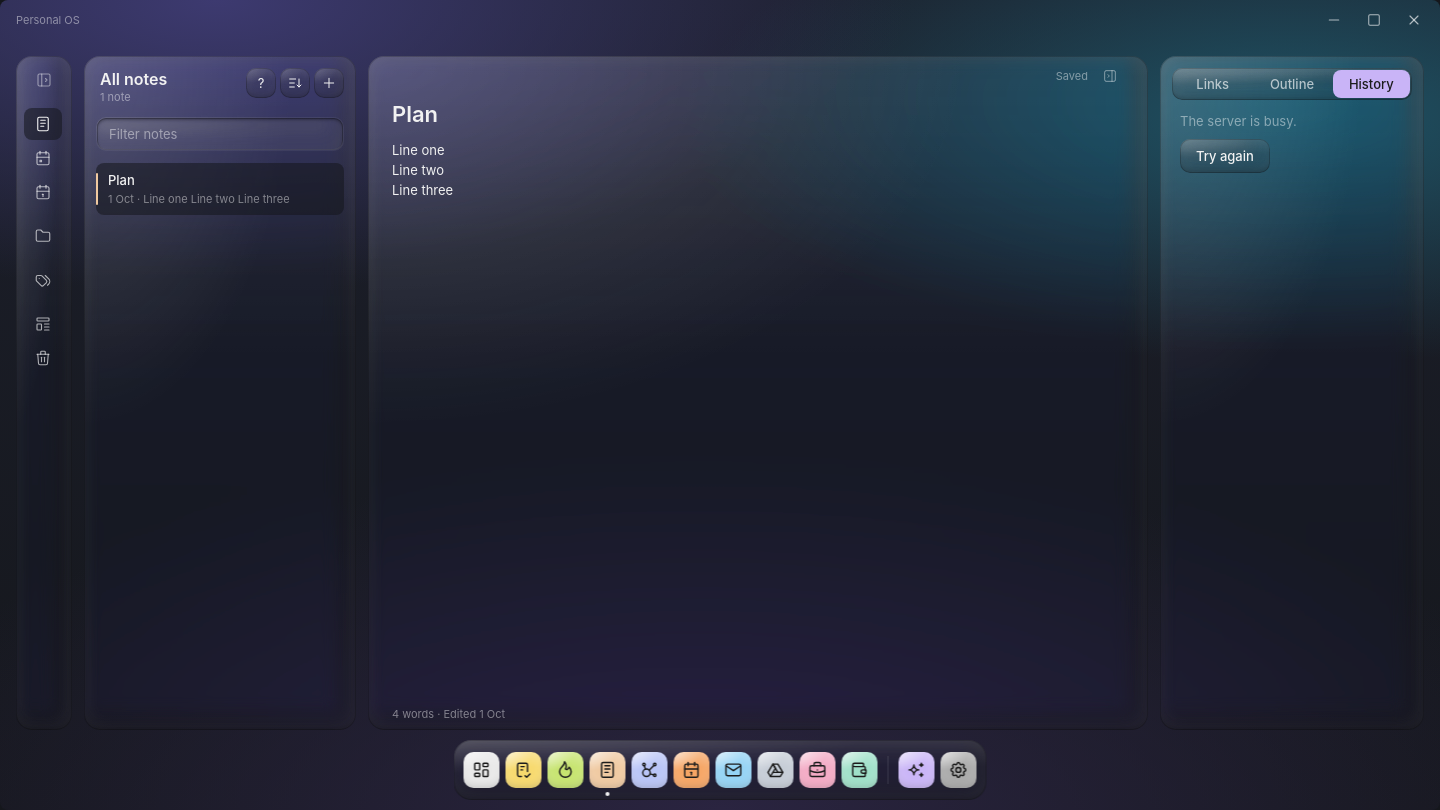
Test: the History tab › shows the server message and tries again
expect the text "The server is busy." is shown: met, box [1180, 112, 1297, 131]
Click the button "Try again" at (1225, 156), box [1180, 139, 1270, 173]
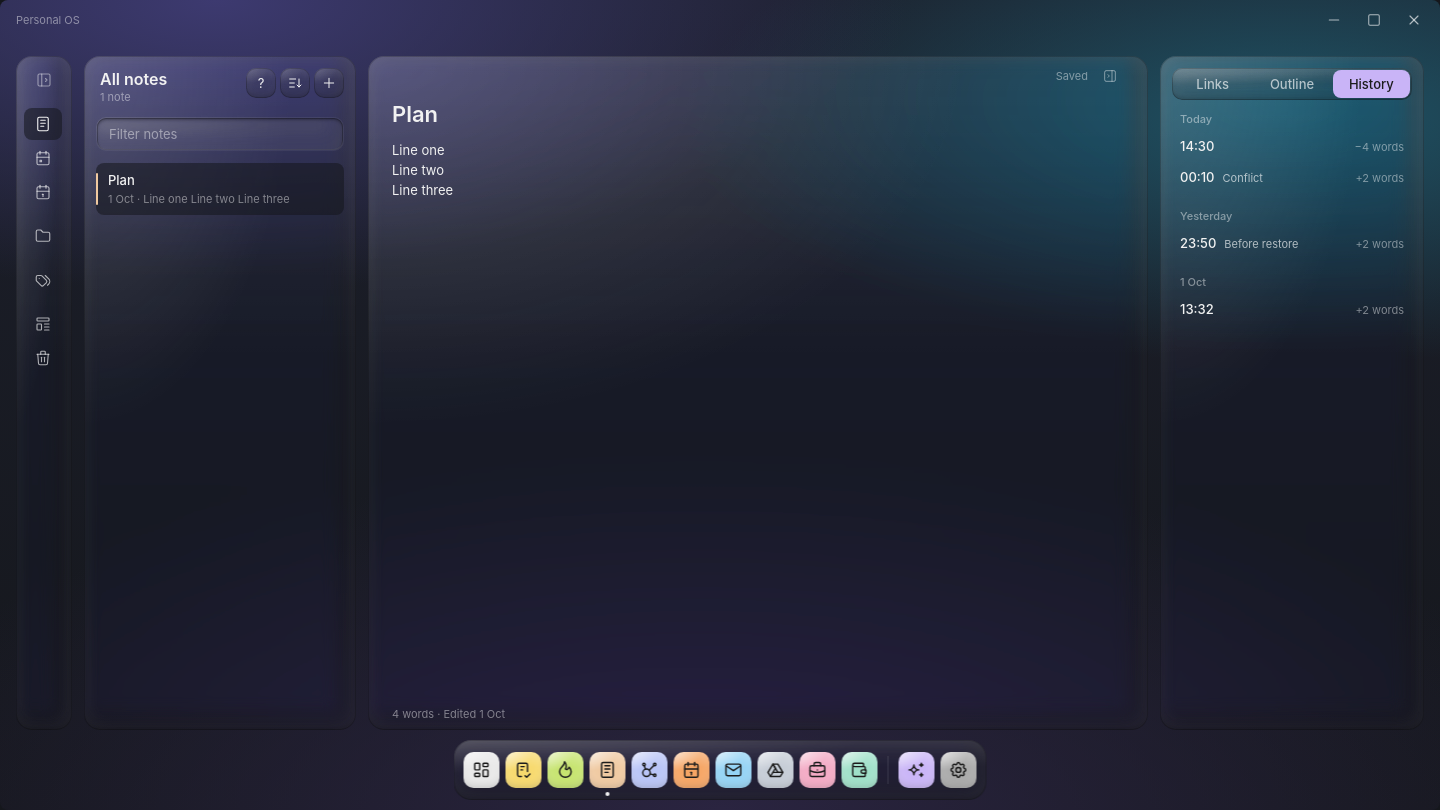
expect the heading "Today" is shown: met, box [1180, 112, 1212, 126]
